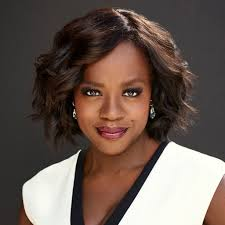person: (37, 10, 190, 156)
